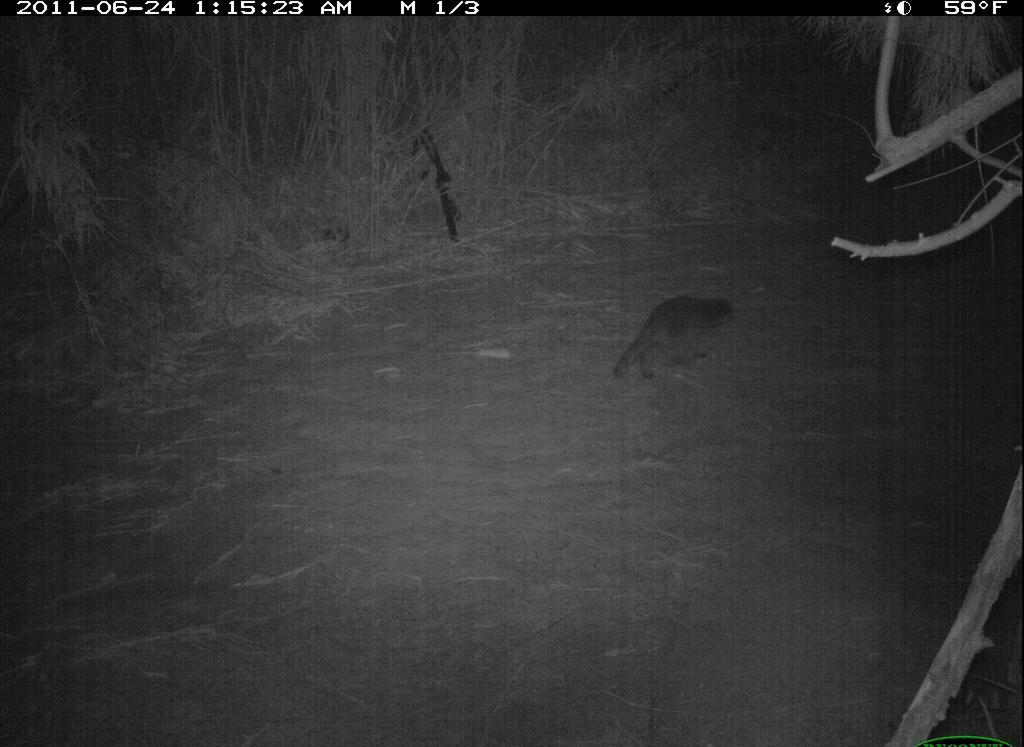raccoon: (609, 292, 740, 385)
